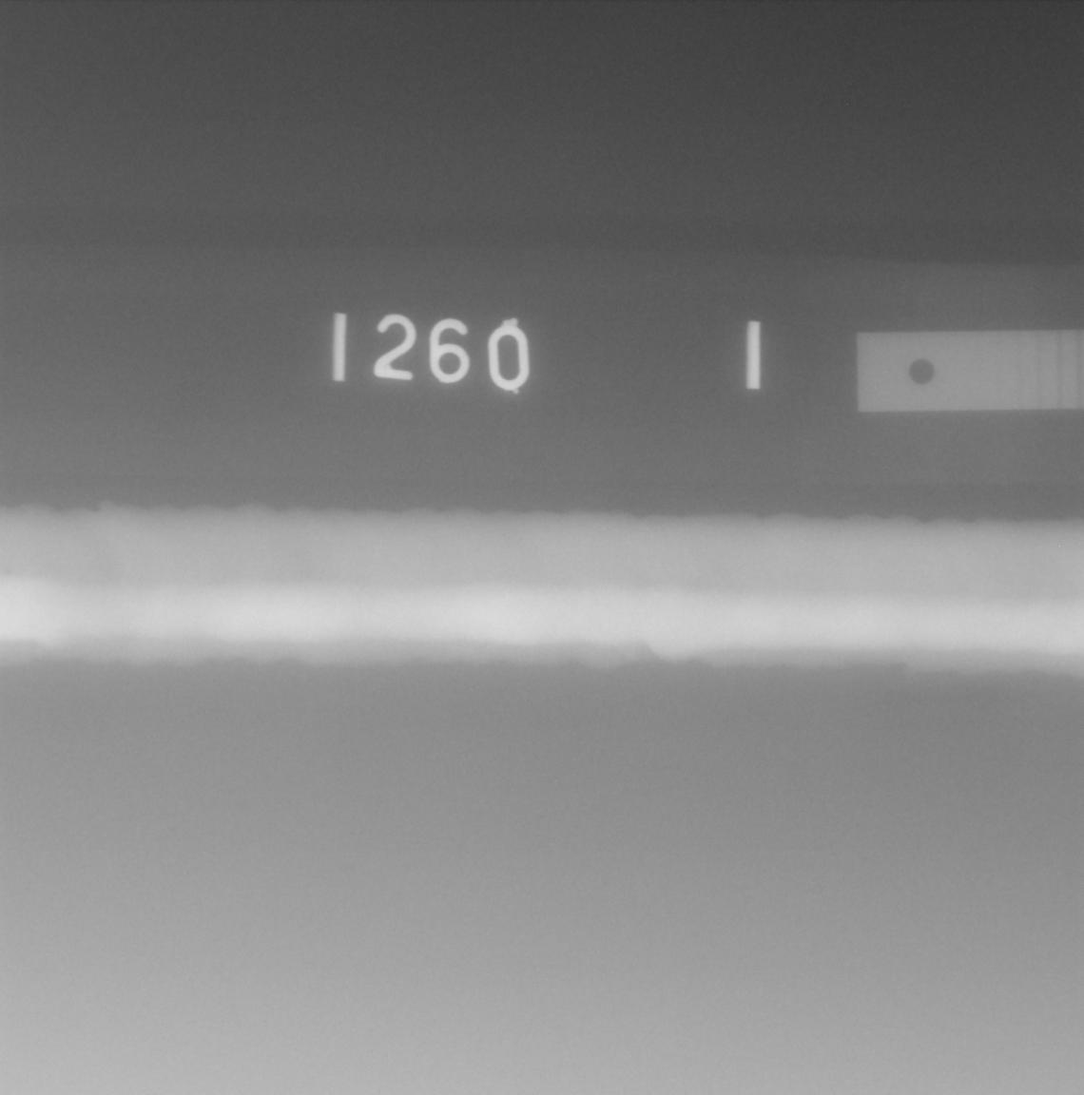Pore/Porosity: (4, 570, 11, 575)
